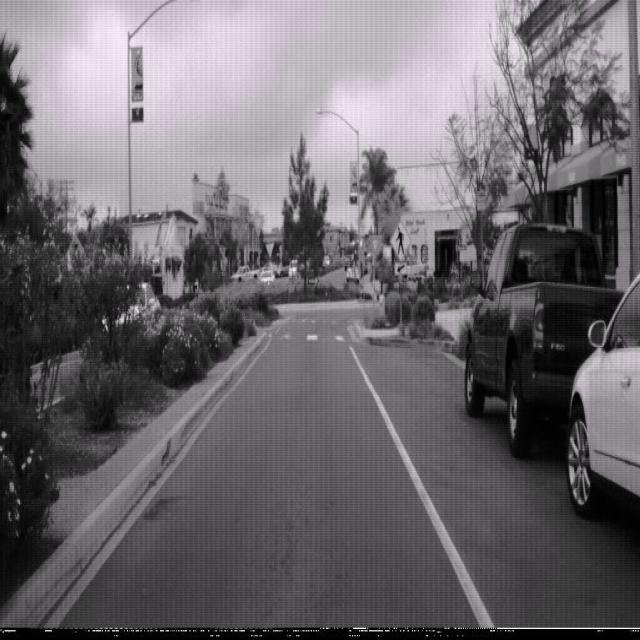pedestrianCrossing: (389, 218, 412, 264)
